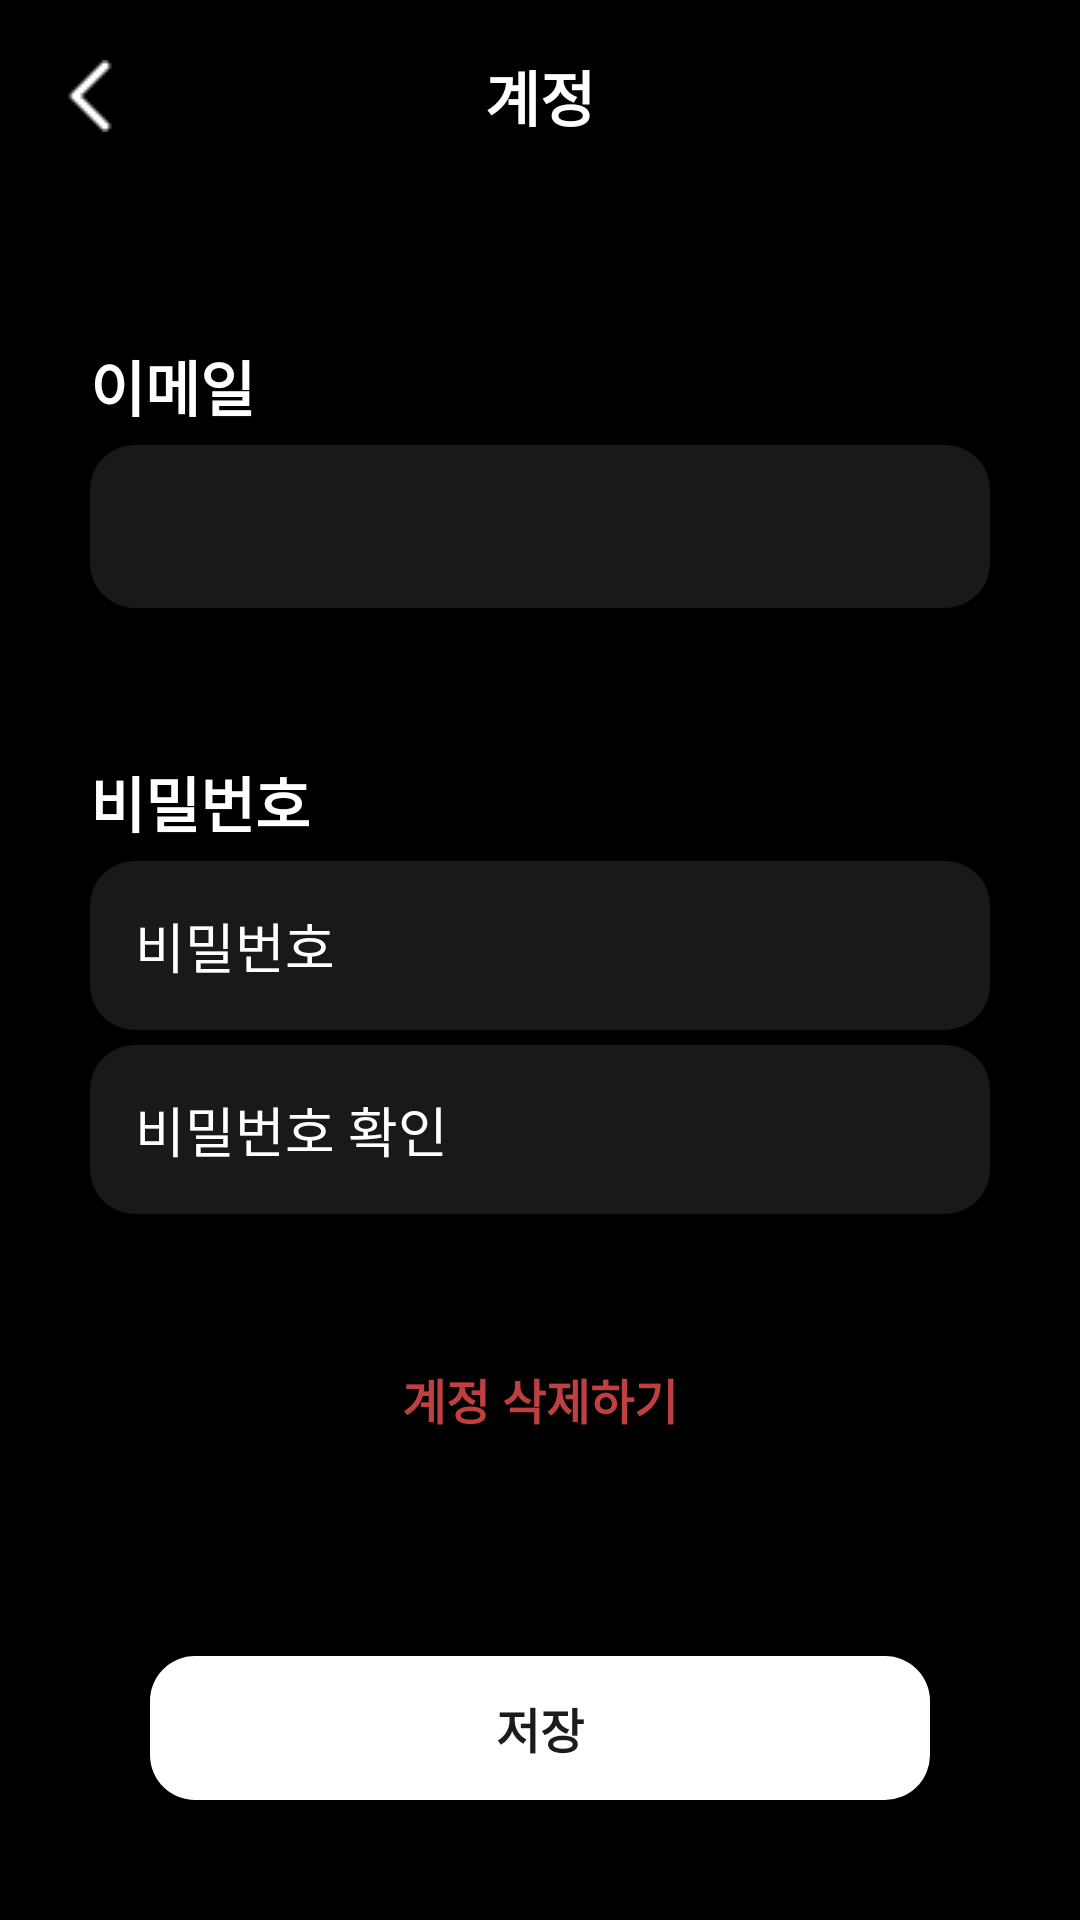

Icons on this 1080 x 1920 Android screen, each with its box as (x1, y1, x2, y2):
back: (68, 60, 112, 132)
